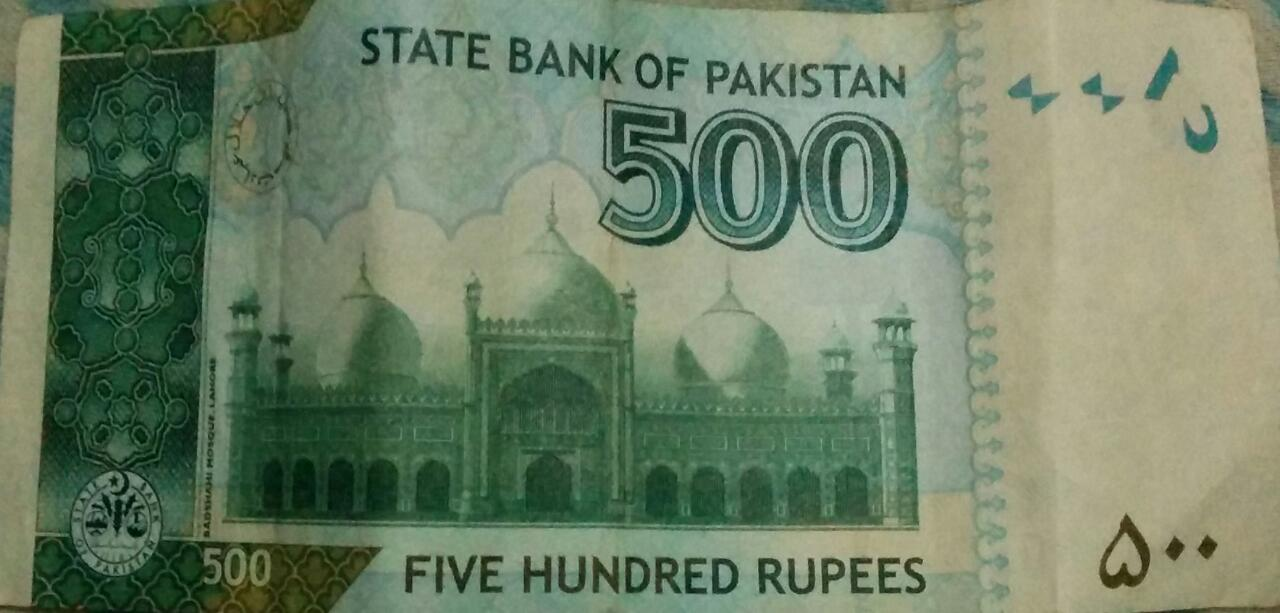500 rupee: (4, 10, 1248, 603)
